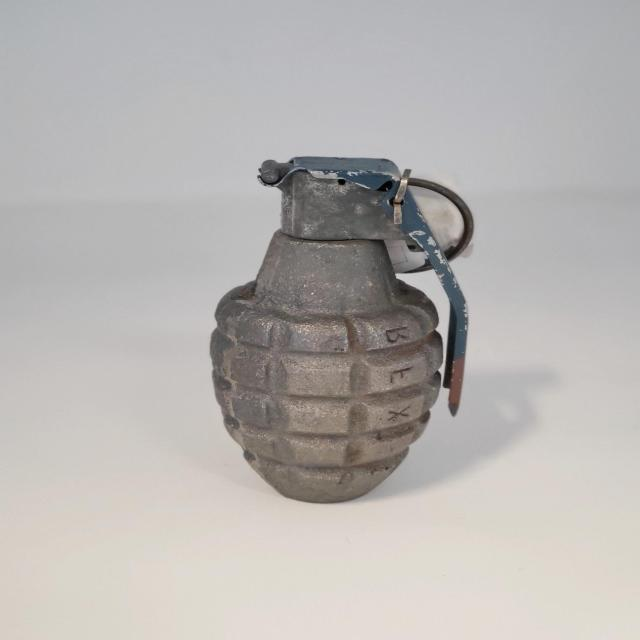grenade: (211, 159, 471, 507)
